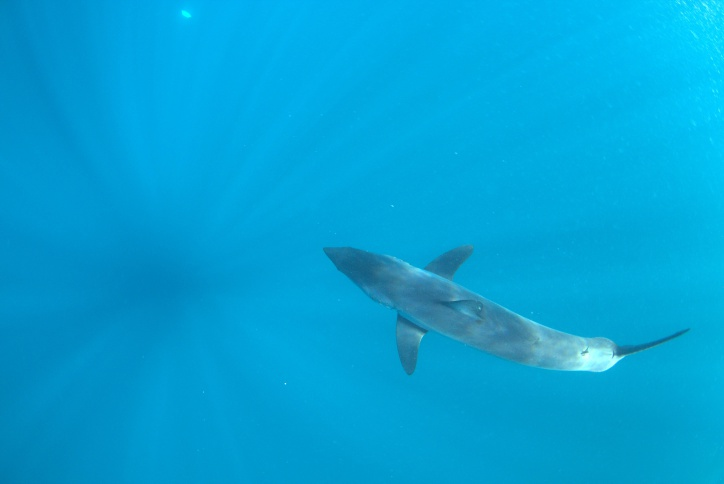Mako: (288, 213, 700, 414)
